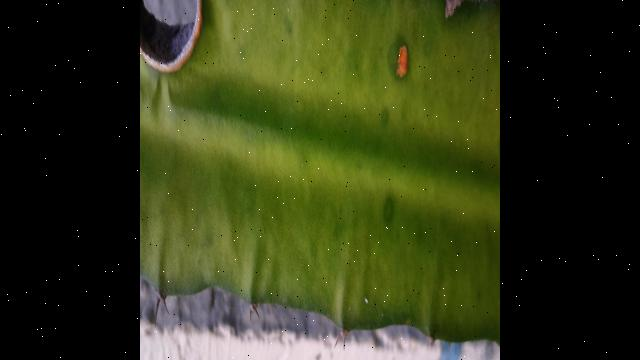stemcanker: (390, 39, 414, 82)
